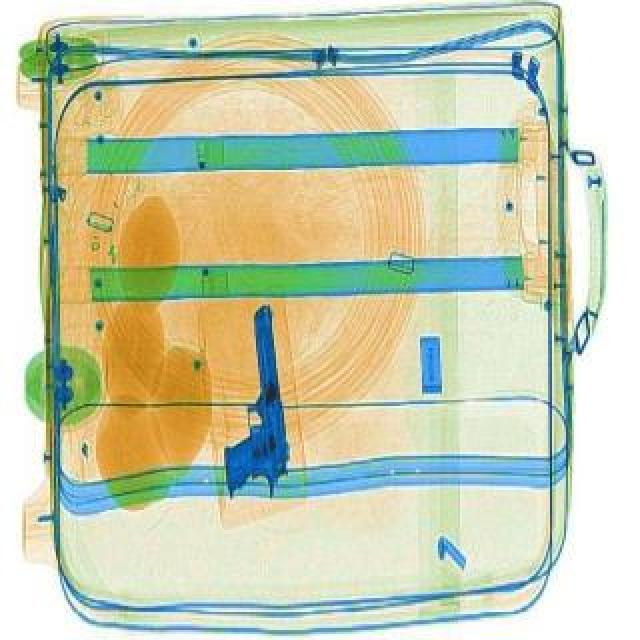gun: (200, 308, 294, 496)
